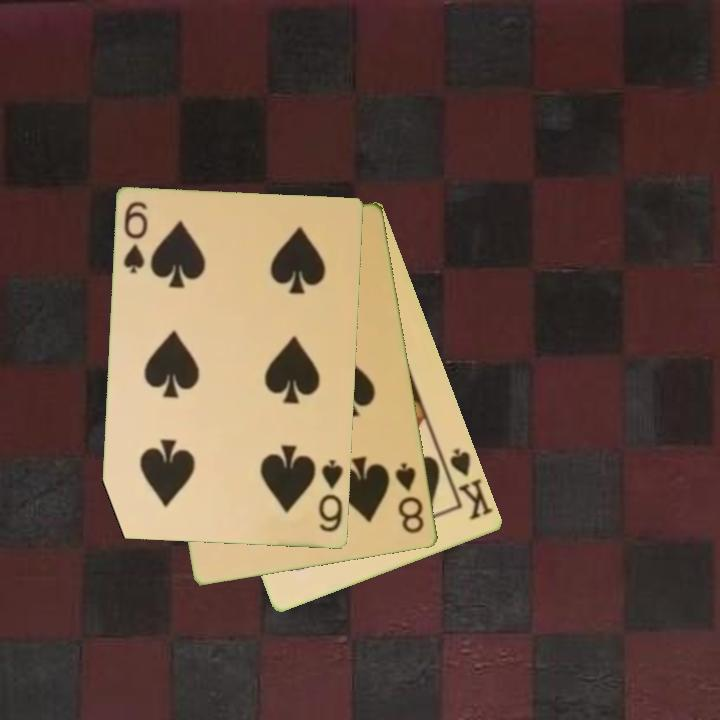6s: (315, 456, 347, 535), (120, 198, 151, 277)
8s: (392, 459, 428, 537)
Ks: (446, 444, 496, 523)
